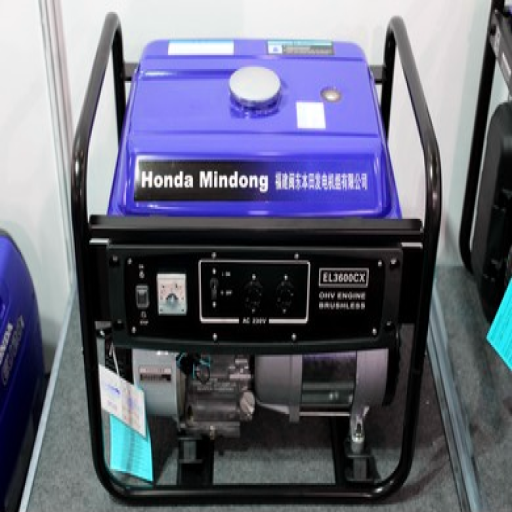portable_generator: (71, 11, 442, 505)
